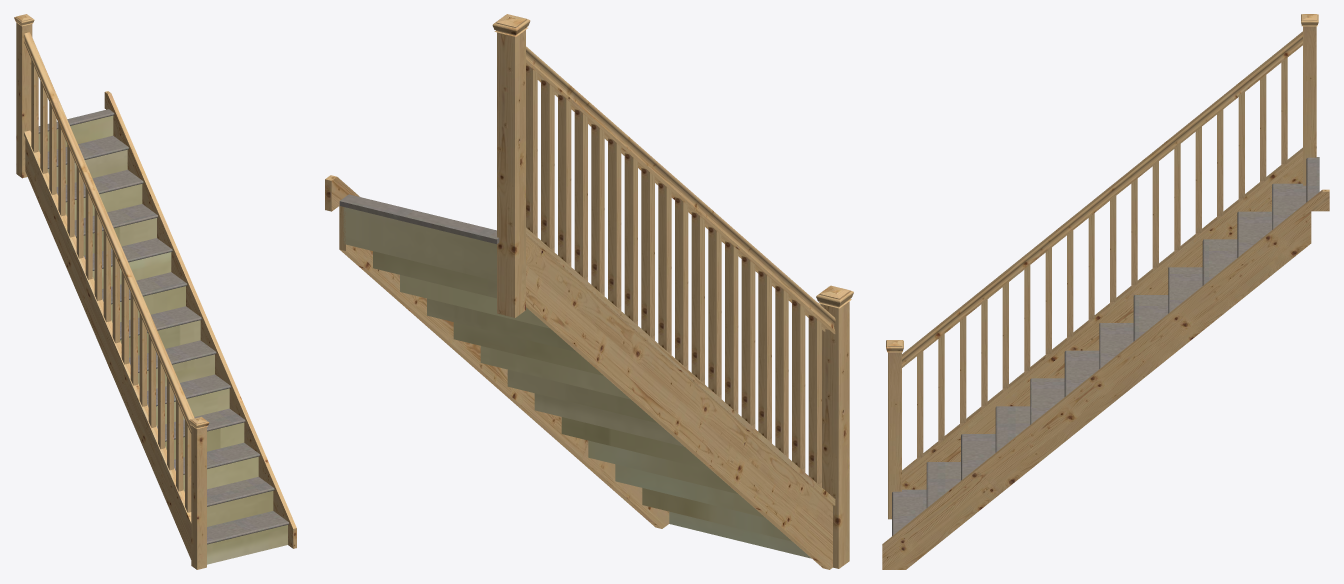
File: Staircase_3.dae
The picture shows the model from 3 angles, left to right: view 1: azimuth 30°, elevation 25°; view 2: azimuth 150°, elevation 25°; view 3: azimuth 270°, elevation 25°; orthographic projection. The views are drawn at different scales.
Visible parts, largest first — view 1: StairCon (×50); view 2: StairCon (×38); view 3: StairCon (×37).
Boxes of the visible parts, x1,y1,x2,y2 form: StairCon (×50): (14, 14, 296, 569); StairCon (×38): (325, 14, 853, 569); StairCon (×37): (882, 14, 1329, 569).
Bounding box in the file's own units: 0.8819 × 2.92 × 3.6.
7 materials, 7 textured.
